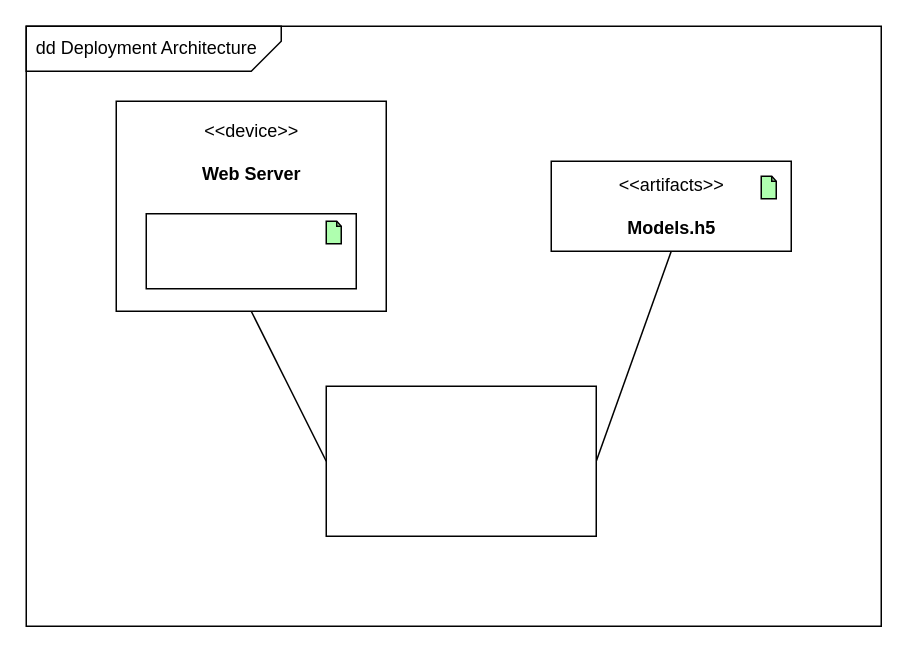
Some shapes in this 908 by 653 pixel diagram are drawn without their labels. Each missing label, with the box of its shape:
<<artifacts>> Web Site: (145, 212, 356, 289)
<<device>> Application Server: (325, 385, 596, 536)
